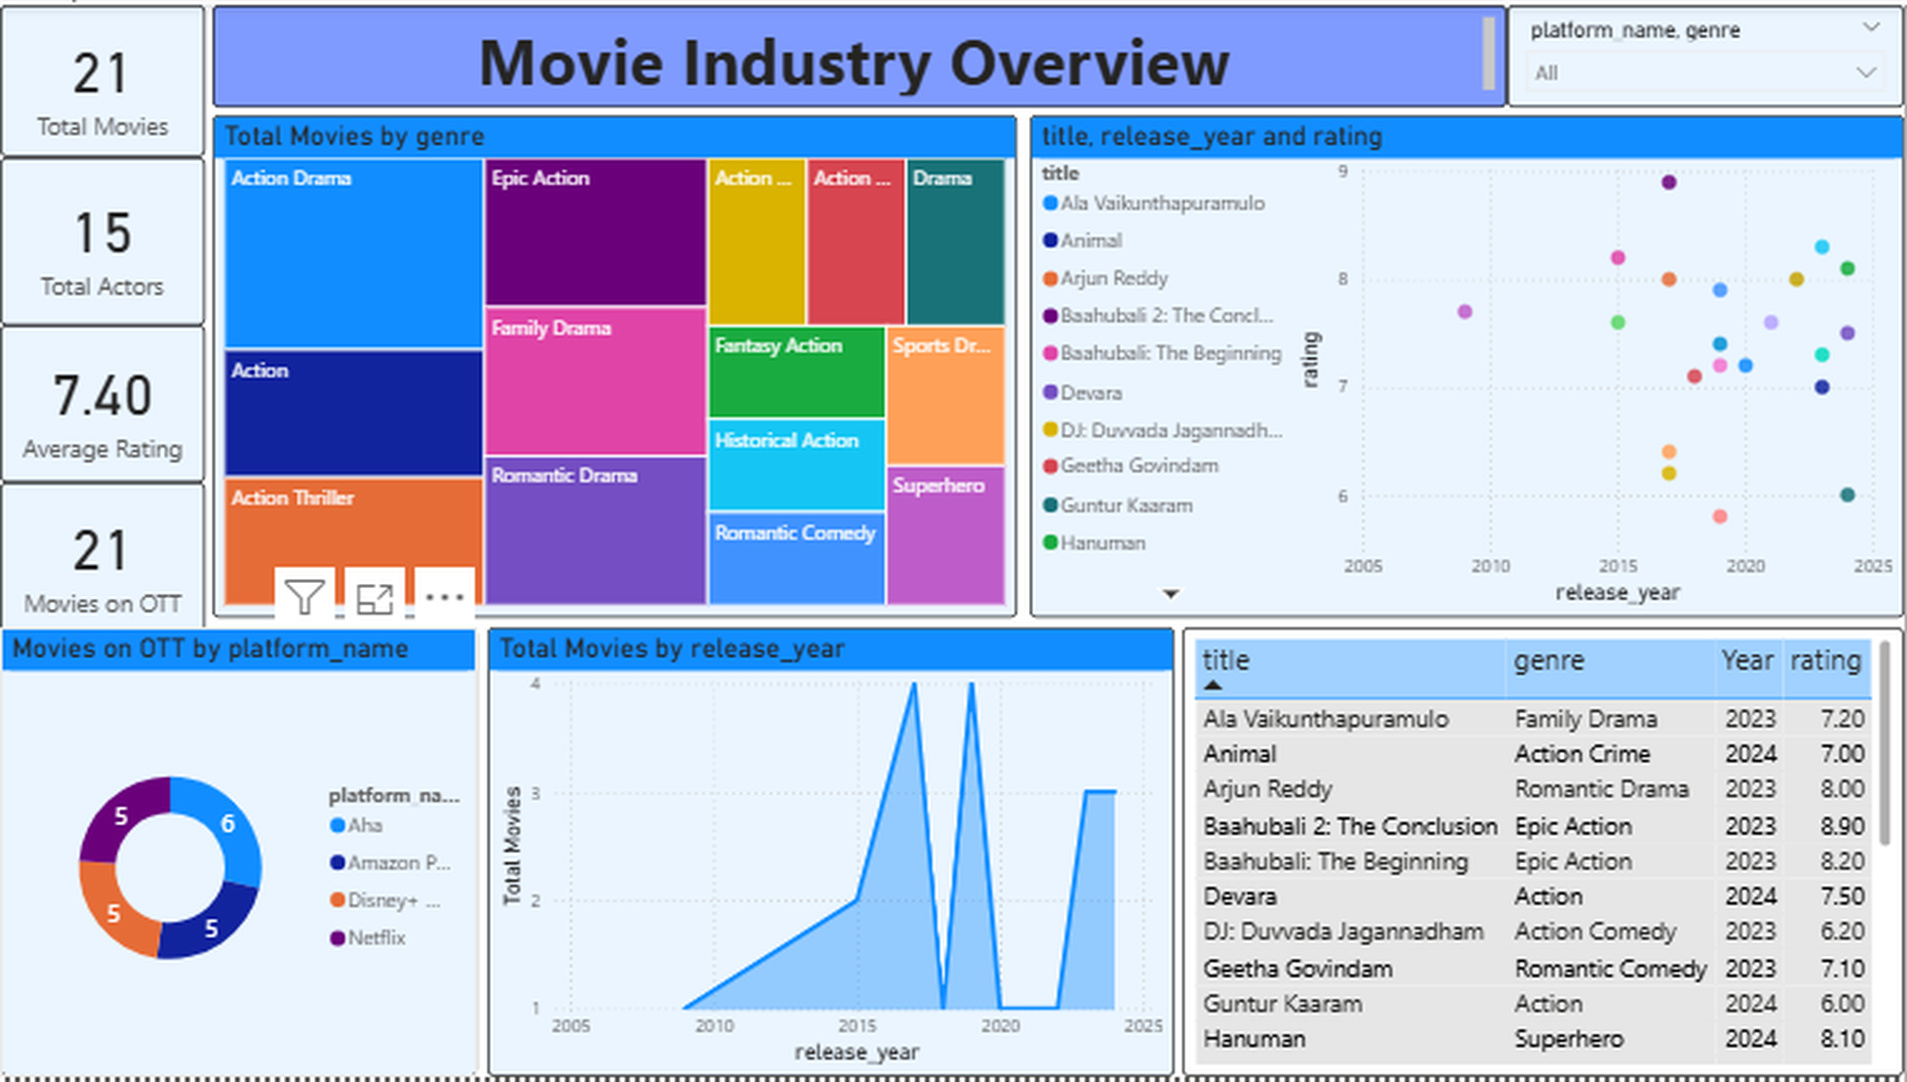

What the dashboard file says about the page in this screenshot:
{"tool":"powerbi","page":{"name":"Page 1","canvas":[1280,720],"ordinal":0},"visuals":[{"type":"card","fields":{"Values":["movies actors.Total Movies"]},"box":[0,0,137.7,102.5],"z":0},{"type":"card","fields":{"Values":["movies actors.Total Actors"]},"box":[0,102.5,137.7,112.5],"z":1000},{"type":"card","fields":{"Values":["movies actors.Average Rating"]},"box":[0,215,137.7,105.8],"z":2000},{"type":"card","fields":{"Values":["movies actors.Movies on OTT"]},"box":[0,320.8,137.7,102.5],"z":3000},{"type":"treemap","fields":{"Group":["movies movies.genre"],"Values":["movies actors.Total Movies"]},"box":[142.8,73.9,540.9,337.6],"z":4000},{"type":"areaChart","fields":{"Category":["movies movies.release_year"],"Y":["movies actors.Total Movies"]},"box":[327.6,418.3,461.9,302.4],"z":5000},{"type":"donutChart","fields":{"Category":["movies ott_platforms.platform_name"],"Y":["movies actors.Movies on OTT"]},"box":[0,418.3,320.8,302.4],"z":6000},{"type":"tableEx","fields":{"Values":["movies movies.title","movies movies.genre","movies movie_streaming.available_from.Variation.Date Hierarchy.Year","movies movies.rating"]},"box":[794.5,418.3,485.5,302.4],"z":7000},{"type":"scatterChart","fields":{"X":["movies movies.release_year"],"Y":["movies movies.rating"],"Series":["movies movies.title"]},"box":[692.1,73.9,587.9,337.6],"z":8000},{"type":"slicer","fields":{"Values":["movies ott_platforms.platform_name","movies movies.genre"]},"box":[1012.9,0,267.1,68.9],"z":9000},{"type":"textbox","box":[142.8,0,870.1,68.9],"z":10000}]}

Visuals, with their boxes in screenshot pixels (x1, y1, x2, y2), scaled from the page's 1280x720 canvas onto the 1907x1082 screenshot:
card - movies actors.Total Movies: (left=0, top=0, right=205, bottom=154)
card - movies actors.Total Actors: (left=0, top=154, right=205, bottom=323)
card - movies actors.Average Rating: (left=0, top=323, right=205, bottom=482)
card - movies actors.Movies on OTT: (left=0, top=482, right=205, bottom=636)
treemap - movies movies.genre x movies actors.Total Movies: (left=213, top=111, right=1019, bottom=618)
areaChart - movies movies.release_year x movies actors.Total Movies: (left=488, top=629, right=1176, bottom=1081)
donutChart - movies ott_platforms.platform_name x movies actors.Movies on OTT: (left=0, top=629, right=478, bottom=1081)
tableEx - movies movies.title x movies movies.genre: (left=1184, top=629, right=1906, bottom=1081)
scatterChart - movies movies.release_year x movies movies.rating: (left=1031, top=111, right=1906, bottom=618)
slicer - movies ott_platforms.platform_name x movies movies.genre: (left=1509, top=0, right=1906, bottom=104)
textbox: (left=213, top=0, right=1509, bottom=104)
